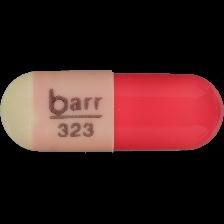64725-0323: (0, 0, 224, 224)
